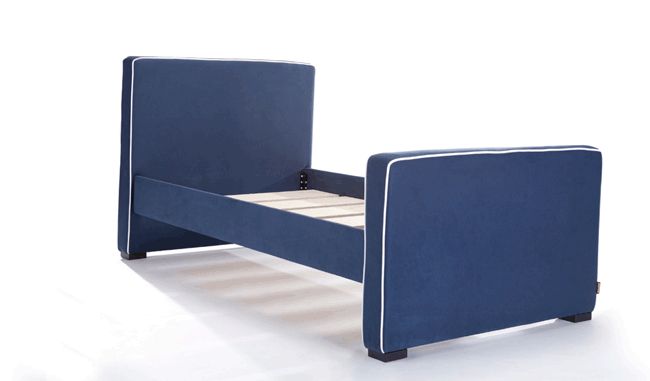bed: (103, 47, 622, 360)
